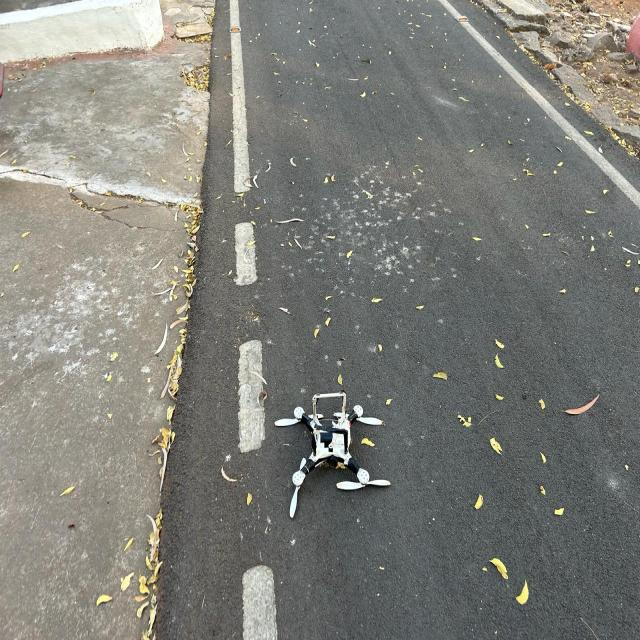drone: (264, 354, 413, 539)
